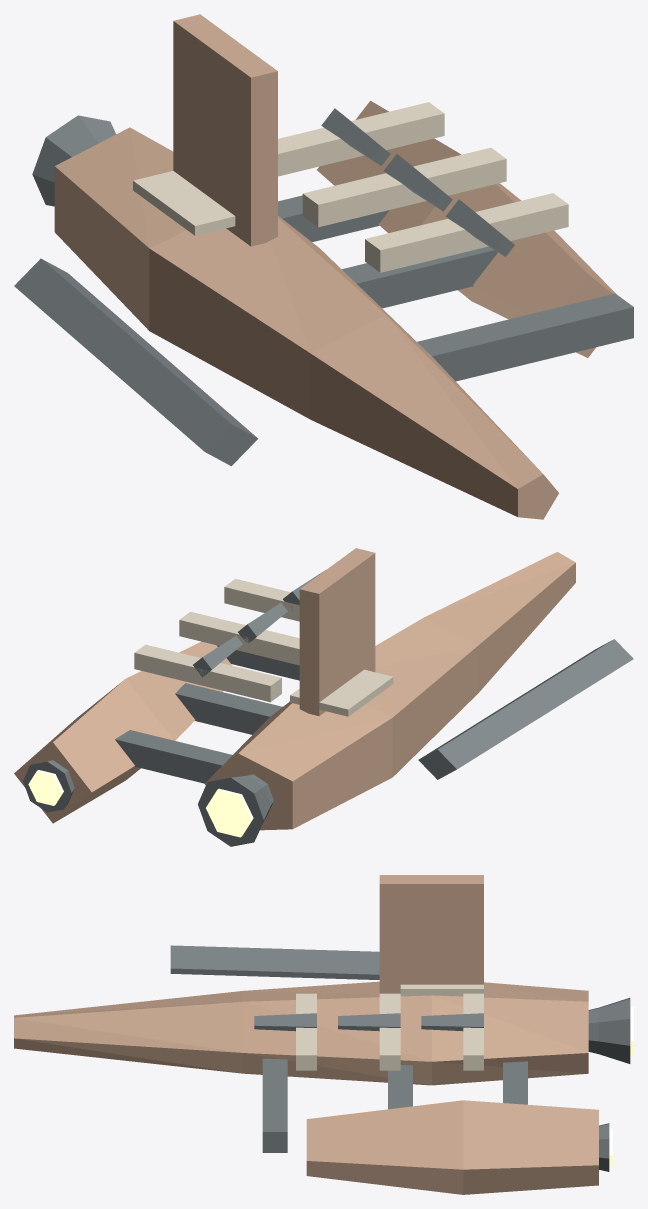
The picture shows the model from 3 angles, top to bottom: view 1: azimuth 30°, elevation 25°; view 2: azimuth 150°, elevation 25°; view 3: azimuth 270°, elevation 25°; orthographic projection. The views are drawn at different scales.
Size of the model in its own units: 8.2 by 4.8 by 11.87.
